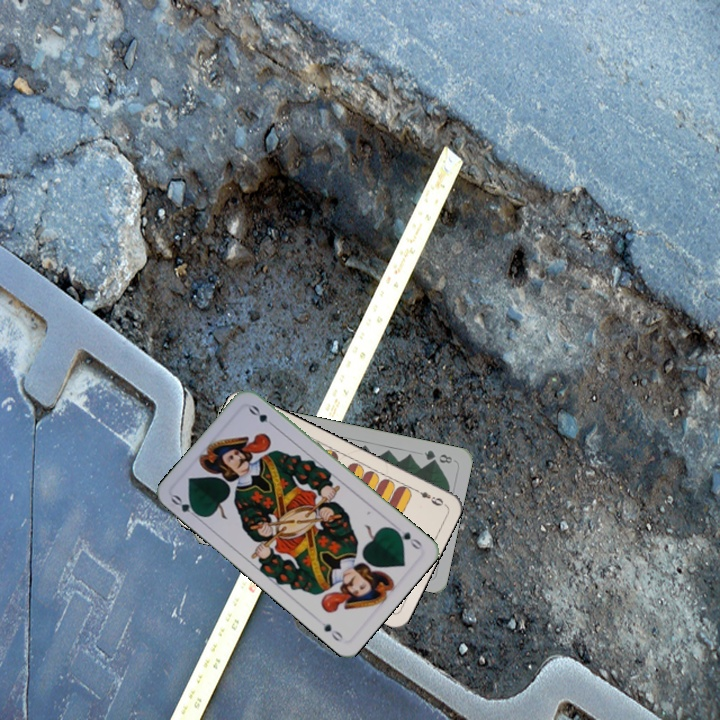E9: (409, 484, 447, 509)
G8: (420, 446, 455, 466)
GO: (167, 491, 204, 523), (389, 524, 425, 552)
